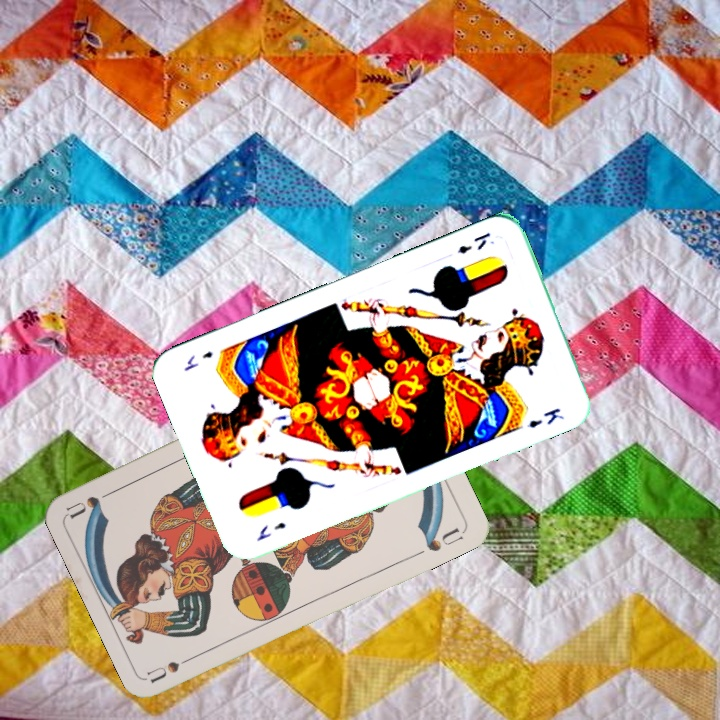EK: (453, 228, 493, 257), (252, 518, 289, 544)
SU: (145, 649, 202, 685)
